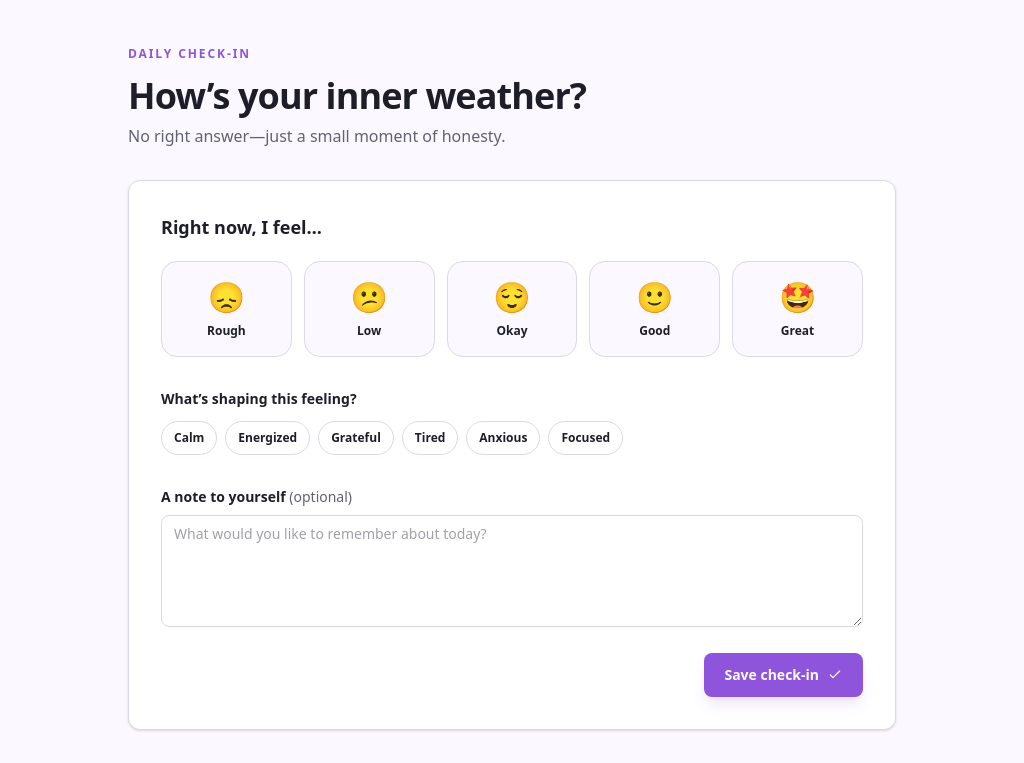
Test: TodayPage › locks repeated mood mutations while saving
Click the button "🙂 Good".
click(655, 309)  # box [589,261,720,357]
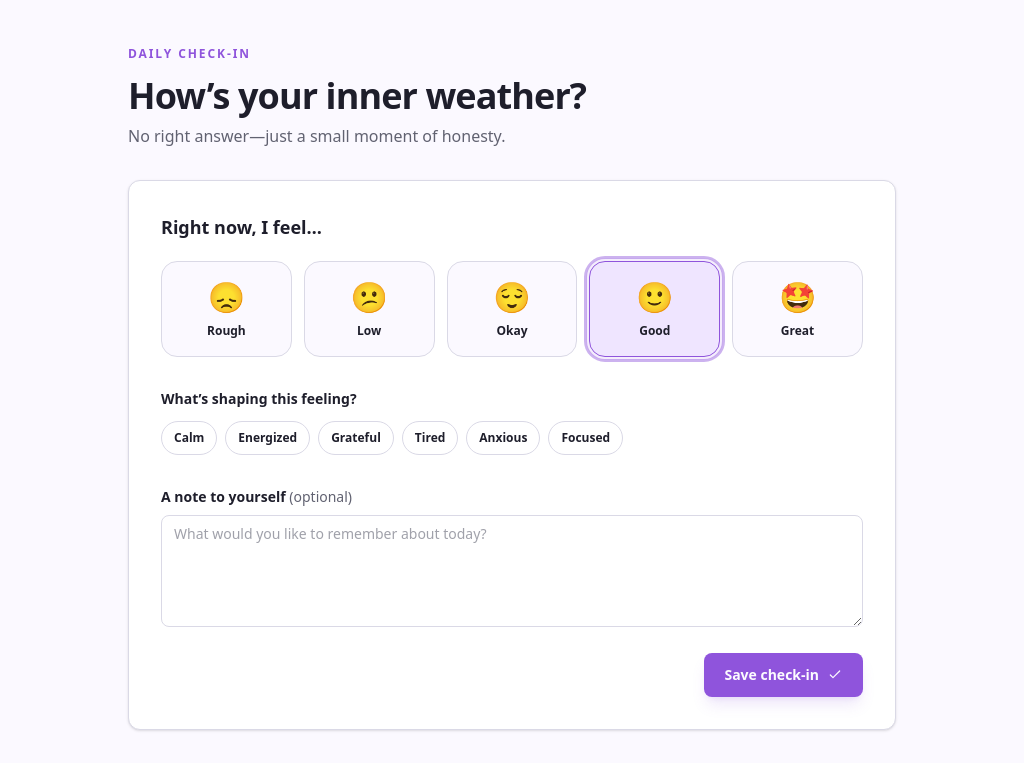
Click the button "Save check-in".
click(784, 675)  # box [704,653,863,697]
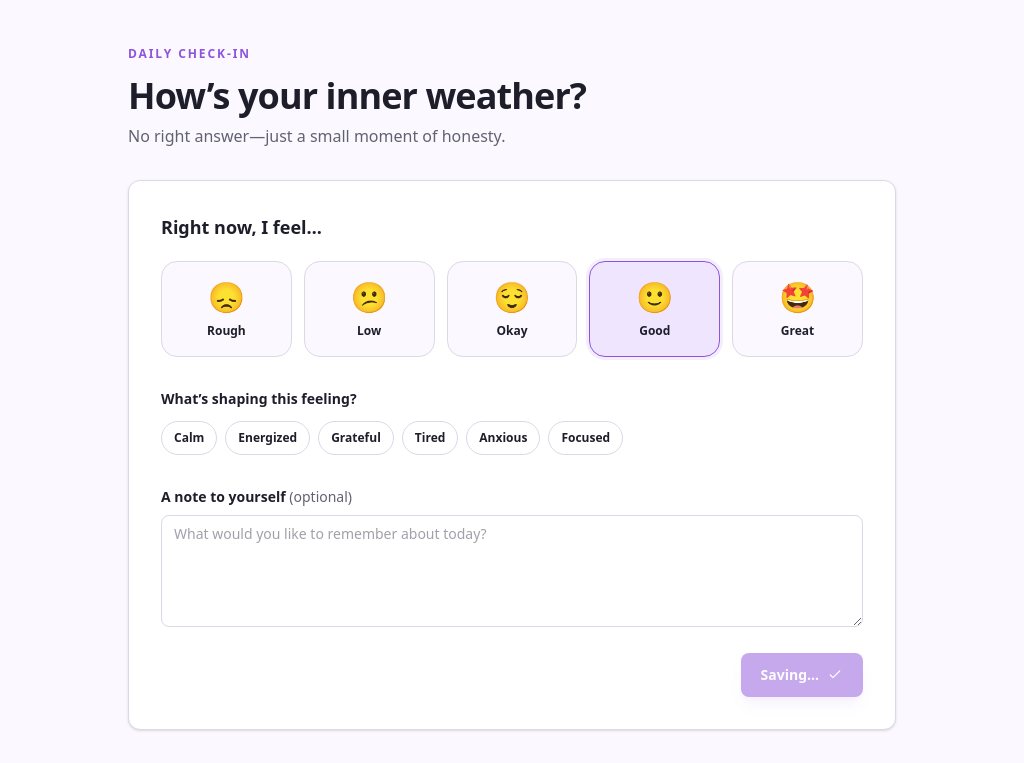
Now the button "Saving…" is disabled, box [741,653,863,697]
